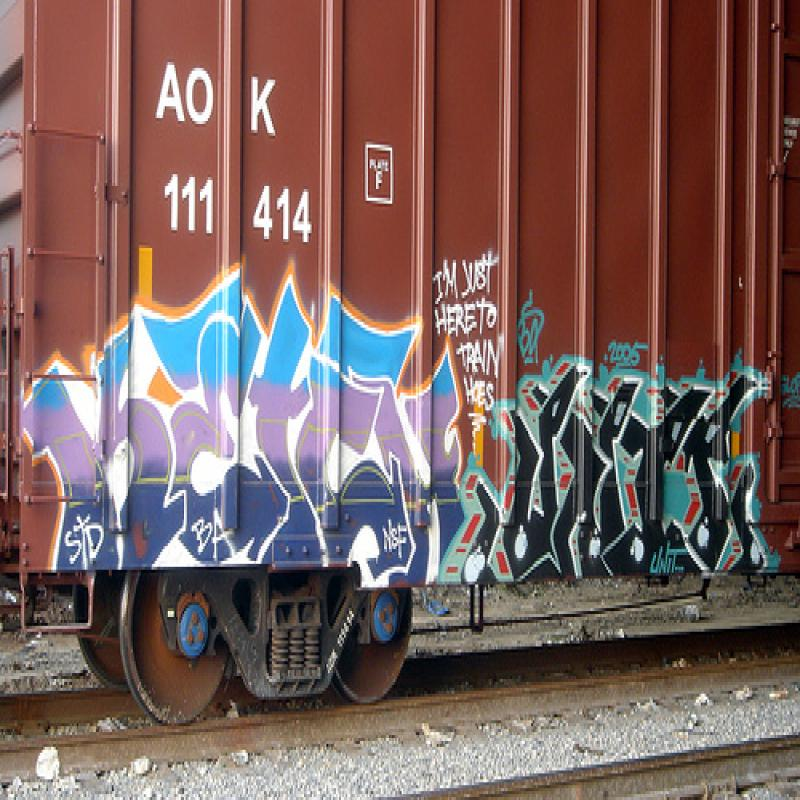train: (2, 4, 800, 745)
